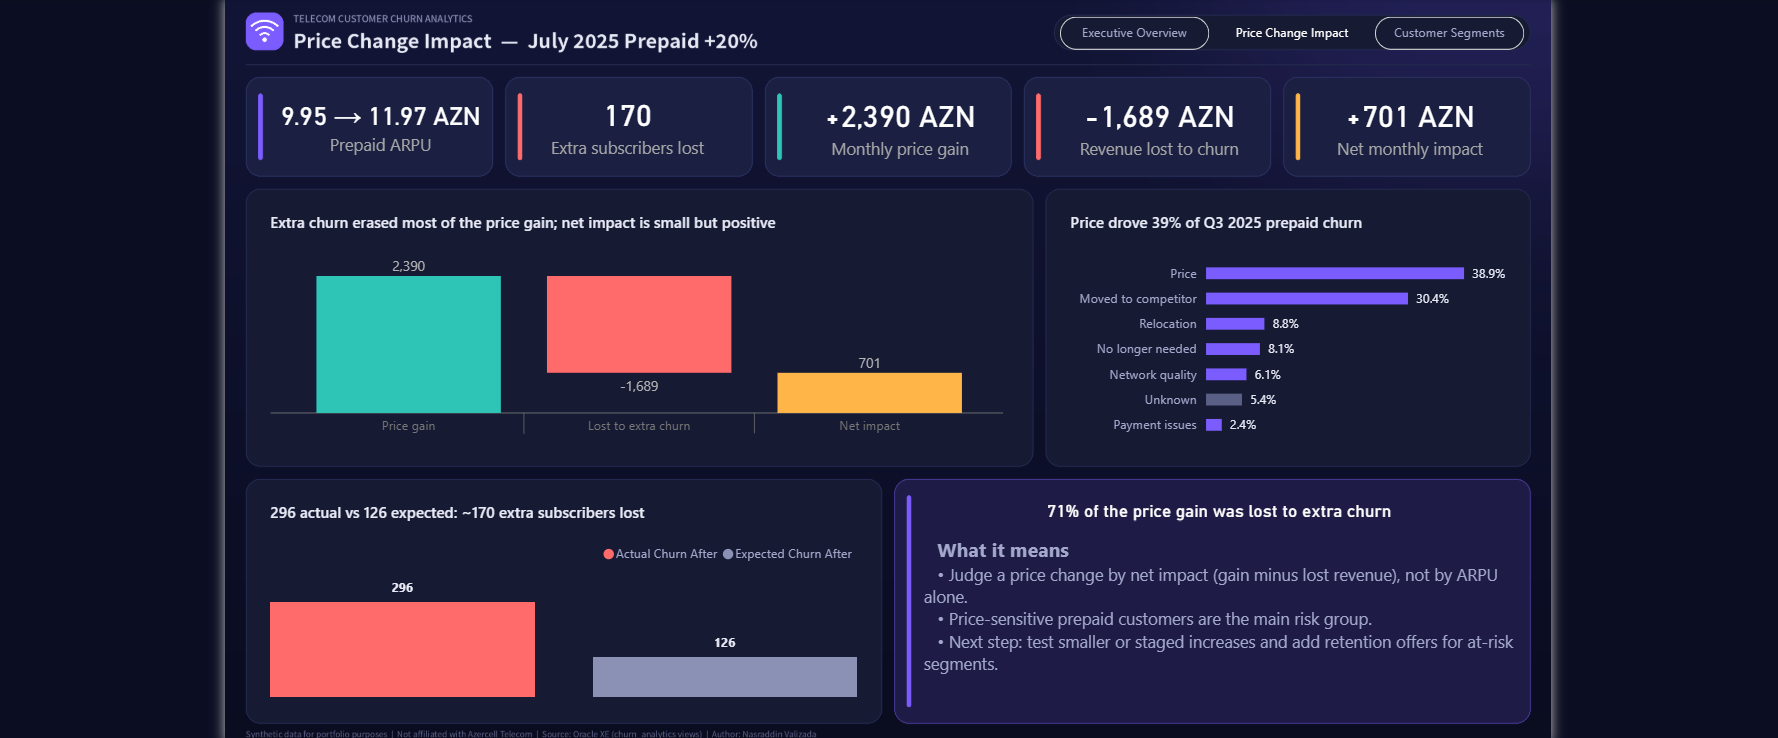

The dashboard page shown, as its layout file describes it:
{"tool":"powerbi","page":{"name":"Price Change Impact","canvas":[1280,720],"ordinal":1},"visuals":[{"type":"pageNavigator","box":[805.5,17.8,448.7,32.9],"z":0},{"type":"advanceCardE03760C5AB684758B56AA29F9E6C257B","fields":{"mainMeasure":["_Measures.ARPU Shift"]},"box":[28.5,77,242.3,92.7],"z":1000},{"type":"advanceCardE03760C5AB684758B56AA29F9E6C257B","fields":{"mainMeasure":["_Measures.Excess Churn"]},"box":[287.9,77,200.3,93.3],"z":2000},{"type":"advanceCardE03760C5AB684758B56AA29F9E6C257B","fields":{"mainMeasure":["_Measures.Price Gain"]},"box":[551.6,78.4,200.3,93.3],"z":3000},{"type":"advanceCardE03760C5AB684758B56AA29F9E6C257B","fields":{"mainMeasure":["_Measures.Lost Revenue"]},"box":[792.5,78.4,218.1,92.7],"z":4000},{"type":"advanceCardE03760C5AB684758B56AA29F9E6C257B","fields":{"mainMeasure":["_Measures.Net Impact"]},"box":[1043.4,78.4,200.3,93.3],"z":5000},{"type":"SimpleWaterfall","title":"Extra churn erased most of the price gain; net impact is small but positive","fields":{"category":["Impact Bridge.Step"],"measure":["_Measures.Bridge Value"]},"box":[28,192,744,252],"z":6000},{"type":"clusteredBarChart","title":"Price drove 39% of Q3 2025 prepaid churn","fields":{"Category":["FactCustomer.CHURN_REASON"],"Y":["_Measures.Share of Churners"]},"box":[800,192,452,252],"z":7000},{"type":"clusteredColumnChart","title":"296 actual vs 126 expected: ~170 extra subscribers lost","fields":{"Y":["_Measures.Actual Churn After","_Measures.Expected Churn After"]},"box":[28,472,598,220],"z":8000},{"type":"advanceCardE03760C5AB684758B56AA29F9E6C257B","fields":{"mainMeasure":["_Measures.Gain Lost Text"]},"box":[674.2,471.8,570.2,48.5],"z":9000},{"type":"textbox","box":[674,520,570,172],"z":10000}]}

Visuals, with their boxes on the page's 1280x720 design canvas (x1, y1, x2, y2). These are canvas units, not pixel positions in the 1778x738 screenshot, which may show the page scaled, cropped or inside an application window:
pageNavigator: [806,18,1254,51]
advanceCardE03760C5AB684758B56AA29F9E6C257B - _Measures.ARPU Shift: [28,77,271,170]
advanceCardE03760C5AB684758B56AA29F9E6C257B - _Measures.Excess Churn: [288,77,488,170]
advanceCardE03760C5AB684758B56AA29F9E6C257B - _Measures.Price Gain: [552,78,752,172]
advanceCardE03760C5AB684758B56AA29F9E6C257B - _Measures.Lost Revenue: [792,78,1011,171]
advanceCardE03760C5AB684758B56AA29F9E6C257B - _Measures.Net Impact: [1043,78,1244,172]
"Extra churn erased most of the price gain; net impact is small but positive" SimpleWaterfall: [28,192,772,444]
"Price drove 39% of Q3 2025 prepaid churn" clusteredBarChart: [800,192,1252,444]
"296 actual vs 126 expected: ~170 extra subscribers lost" clusteredColumnChart: [28,472,626,692]
advanceCardE03760C5AB684758B56AA29F9E6C257B - _Measures.Gain Lost Text: [674,472,1244,520]
textbox: [674,520,1244,692]
